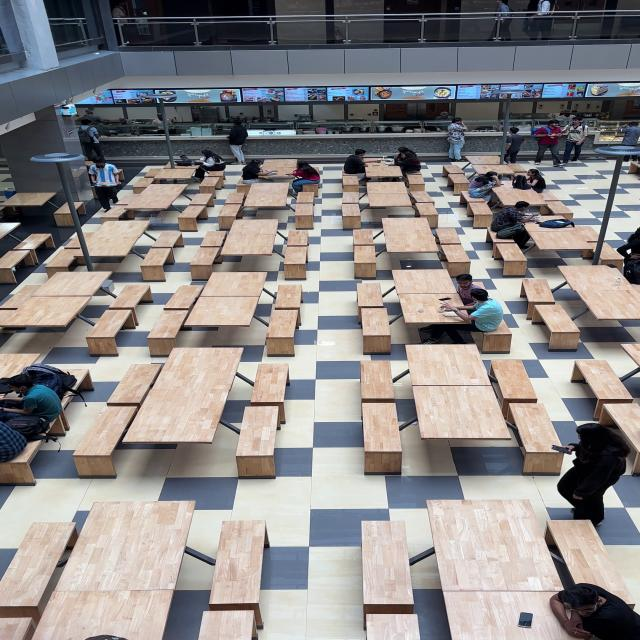Occupied: (447, 589, 568, 638), (0, 397, 74, 476), (437, 276, 518, 345), (549, 587, 640, 640), (428, 287, 505, 343), (0, 373, 62, 426), (482, 204, 540, 243), (462, 170, 509, 200), (366, 614, 420, 640), (288, 162, 322, 197), (452, 276, 488, 308), (190, 150, 226, 180), (468, 171, 501, 203), (342, 150, 369, 188), (241, 158, 277, 184), (520, 171, 556, 195), (393, 147, 421, 176), (240, 162, 269, 184), (521, 170, 548, 192)
Unoccupied: (52, 501, 199, 593), (417, 498, 558, 591), (0, 521, 76, 637), (543, 519, 634, 610), (28, 589, 178, 640), (446, 591, 594, 640), (206, 520, 266, 632), (541, 515, 627, 587), (128, 392, 224, 449), (414, 386, 512, 441), (549, 581, 638, 640), (360, 522, 413, 621), (51, 224, 150, 269), (0, 296, 95, 332), (510, 411, 567, 469), (168, 345, 238, 389), (407, 344, 492, 379), (112, 183, 192, 220), (490, 360, 541, 418), (362, 402, 402, 474), (525, 229, 603, 264), (236, 409, 280, 468), (572, 286, 640, 324), (182, 296, 261, 328), (80, 406, 123, 464), (216, 221, 280, 258), (600, 406, 640, 465), (487, 179, 564, 209), (29, 271, 114, 298), (532, 305, 581, 349), (378, 219, 439, 254), (556, 265, 632, 293), (400, 293, 468, 324), (19, 522, 78, 557), (84, 310, 134, 350), (0, 438, 45, 481), (110, 362, 149, 411), (240, 184, 293, 220), (364, 181, 414, 219), (198, 271, 268, 298), (145, 314, 190, 355), (107, 284, 153, 324), (391, 268, 455, 296), (0, 192, 61, 221), (520, 279, 558, 321), (264, 312, 300, 354), (360, 363, 396, 405), (252, 365, 287, 404), (472, 316, 512, 350), (492, 238, 529, 274), (43, 248, 83, 278), (146, 232, 183, 264), (147, 167, 200, 189), (571, 360, 619, 384), (221, 238, 278, 258), (0, 352, 42, 379), (162, 285, 205, 311), (585, 239, 626, 266), (356, 282, 384, 320), (139, 249, 172, 281), (362, 162, 403, 187), (1, 285, 40, 311), (230, 216, 274, 238), (46, 399, 72, 436), (438, 243, 471, 272), (189, 248, 219, 279), (0, 251, 32, 280), (52, 203, 89, 227), (275, 284, 302, 313), (476, 163, 522, 180), (14, 233, 54, 252), (466, 200, 494, 226), (177, 205, 207, 229), (541, 199, 575, 220), (282, 246, 306, 275), (216, 202, 245, 226), (184, 193, 215, 215), (413, 199, 439, 225), (193, 243, 213, 276), (340, 198, 362, 228), (61, 369, 91, 390), (619, 343, 640, 372), (260, 159, 298, 175), (444, 172, 470, 195), (293, 200, 315, 227), (287, 227, 314, 247), (98, 206, 131, 222), (435, 228, 462, 246), (199, 175, 224, 193), (63, 522, 79, 550), (222, 191, 248, 208), (0, 222, 22, 242), (352, 229, 376, 247), (199, 229, 221, 247), (132, 175, 158, 190), (286, 230, 308, 247), (406, 173, 426, 191), (342, 174, 359, 192), (295, 190, 316, 204), (298, 180, 319, 194), (461, 282, 487, 292), (234, 181, 252, 195), (442, 165, 466, 175), (144, 168, 162, 178)
